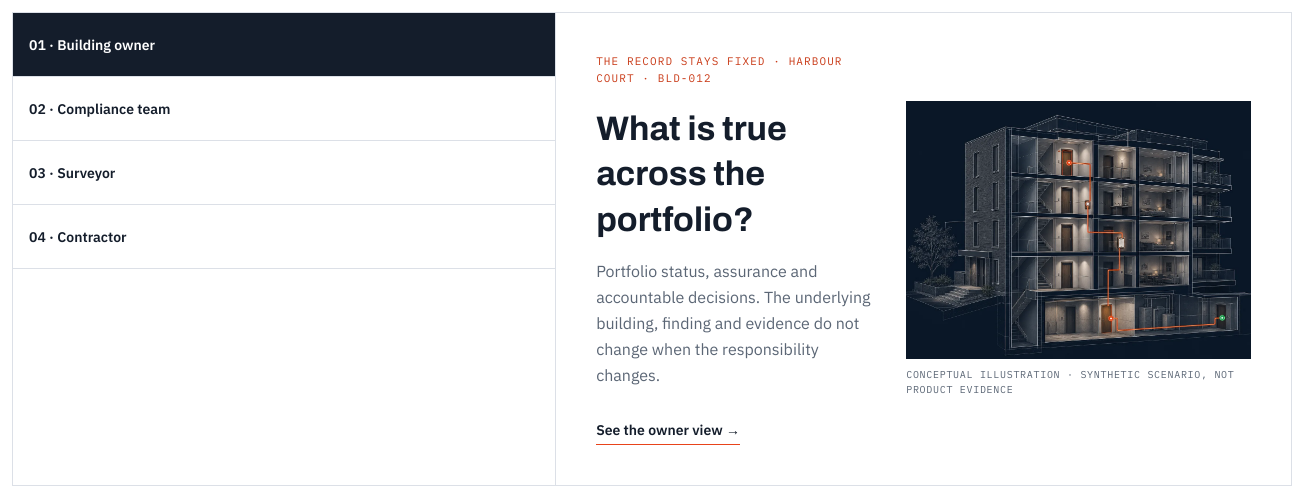
Test: RoleSwitcher › changes the conceptual image with the selected role
Expected: the picture named "conceptual cutaway" is shown, [906,101,1251,359]
Step 1. Click the tab "03 · Surveyor" → (86, 172), box [13,141,555,205]
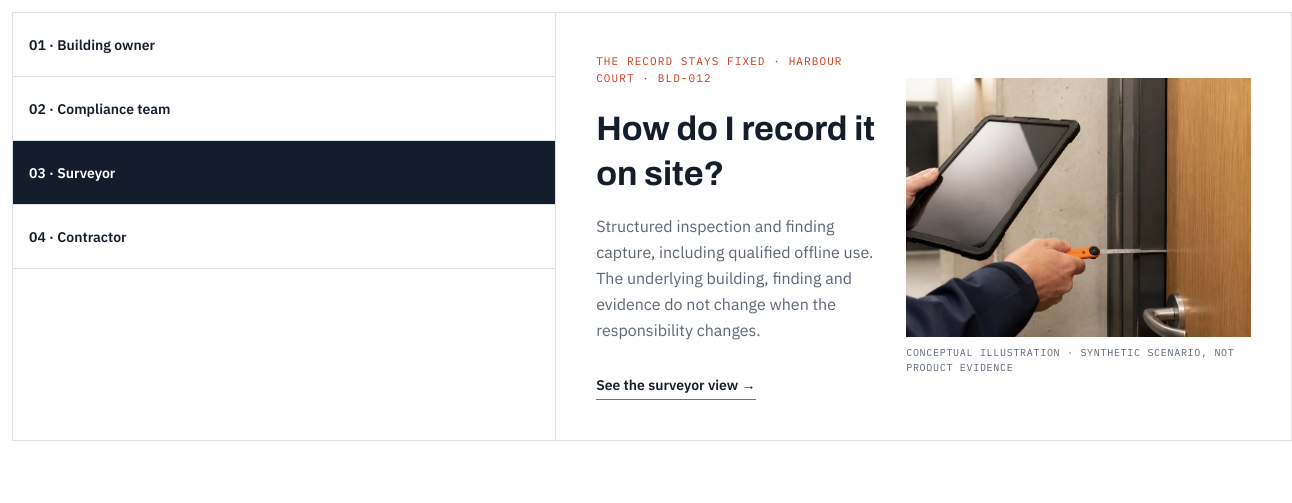
Expected: the text "synthetic scenario, not product evidence" is shown, [906,346,1234,374]
Now the picture named "surveyor capturing structured evidence" is shown, box [906,78,1251,337]
